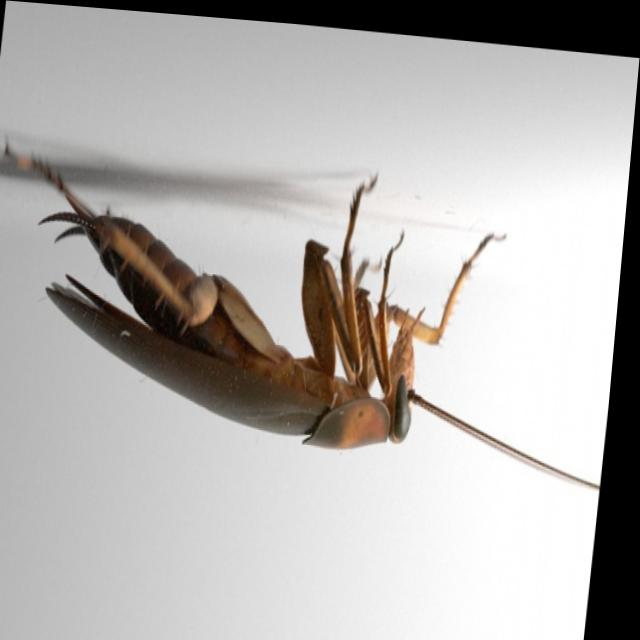Cockroach: (0, 118, 632, 493)
